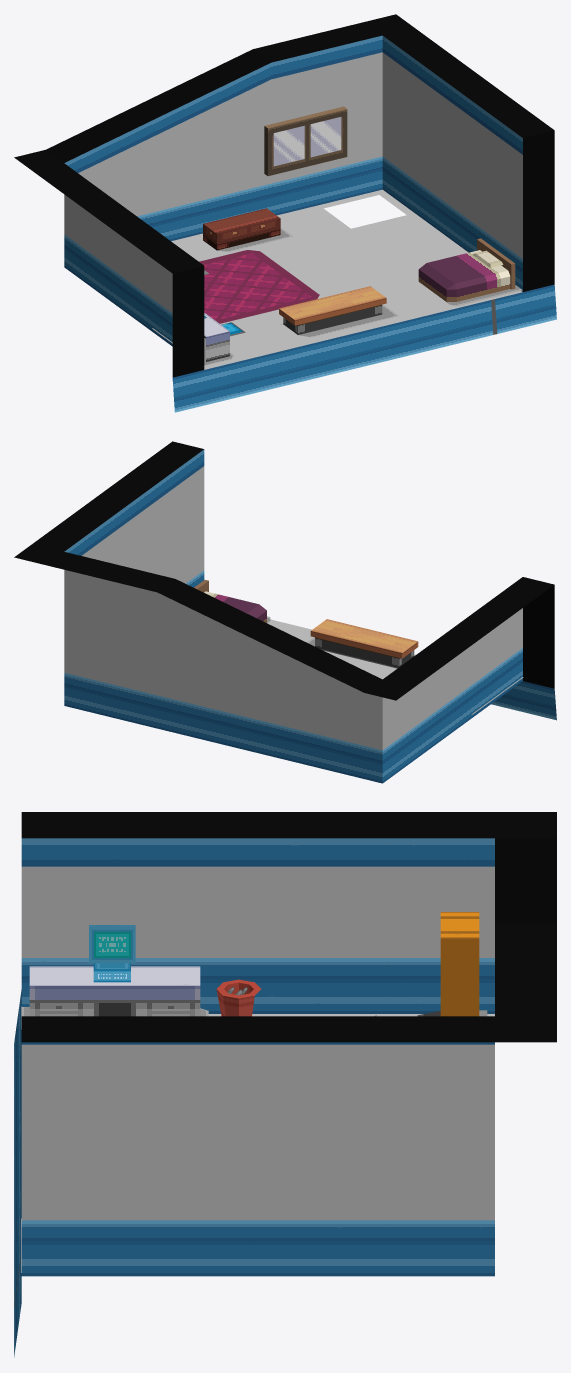
File: ROOM19.obj
The picture shows the model from 3 angles, top to bottom: view 1: azimuth 30°, elevation 25°; view 2: azimuth 150°, elevation 25°; view 3: azimuth 270°, elevation 25°; orthographic projection. The views are drawn at different scales.
Parts seen in each view (by area): view 1: polygon5, polygon3, polygon2, polygon4, polygon1, polygon8, polygon13, polygon6, polygon11, polygon7, polygon15, polygon16; view 2: polygon5, polygon2, polygon3, polygon13, polygon4, polygon8; view 3: polygon5, polygon3, polygon2, polygon16, polygon9, polygon17, polygon12.
Boxes of the visible parts, box(x1,y1,x2,y2) form: polygon5: box(64, 52, 522, 313); polygon3: box(64, 35, 556, 412); polygon2: box(14, 14, 554, 377); polygon4: box(171, 189, 522, 369); polygon1: box(199, 250, 319, 323); polygon8: box(418, 238, 515, 302); polygon13: box(279, 286, 386, 334); polygon6: box(264, 106, 347, 175); polygon11: box(203, 208, 280, 250); polygon7: box(273, 117, 341, 166); polygon15: box(152, 227, 522, 365); polygon16: box(204, 313, 229, 361); polygon5: box(64, 466, 522, 750); polygon2: box(14, 441, 554, 700); polygon3: box(64, 449, 556, 783); polygon13: box(310, 619, 418, 668); polygon4: box(267, 619, 415, 679); polygon8: box(194, 580, 266, 622); polygon5: box(21, 866, 494, 1220); polygon3: box(14, 838, 494, 1357); polygon2: box(21, 812, 556, 1042); polygon16: box(29, 966, 200, 1016); polygon9: box(440, 912, 479, 1016); polygon17: box(89, 925, 135, 982); polygon12: box(216, 979, 260, 1016).
Size of the model in its own units: 6 by 2.81 by 4.38.
